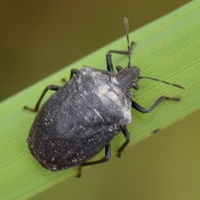insect: (24, 18, 184, 175)
